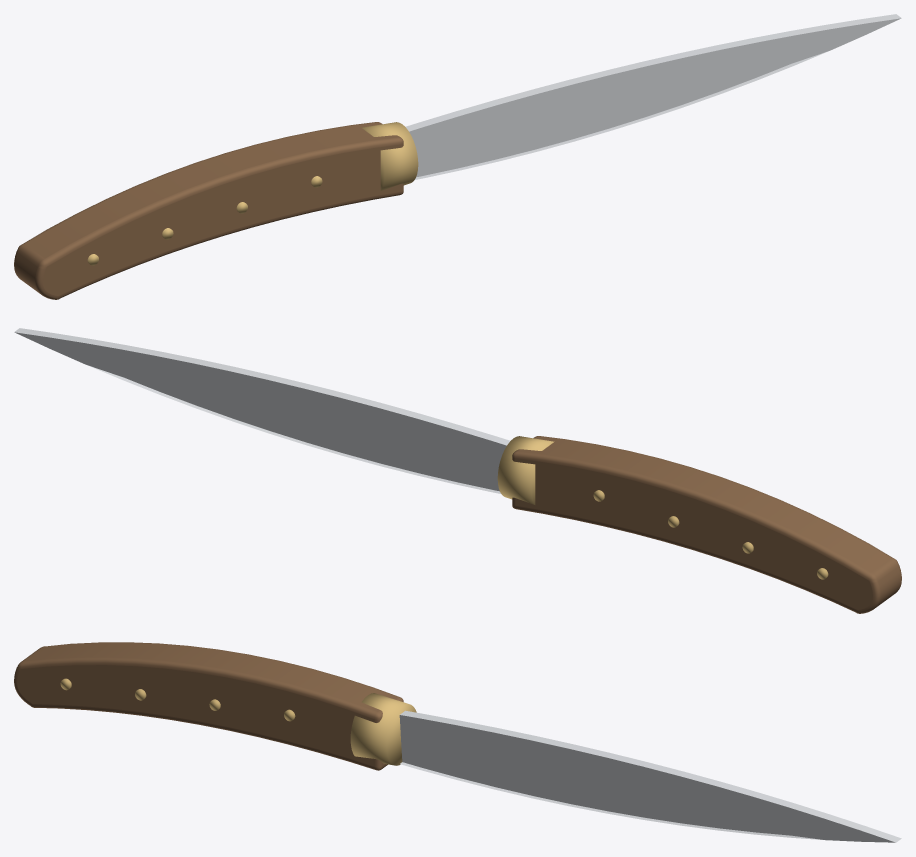
Rendered from knife_navaja.glb.
The picture shows the model from 3 angles, top to bottom: view 1: azimuth 30°, elevation 25°; view 2: azimuth 150°, elevation 25°; view 3: azimuth 330°, elevation 25°; orthographic projection.
Parts seen in each view (by area): view 1: handle, blade, bolster; view 2: handle, blade, bolster; view 3: handle, blade, bolster.
Part boxes in pixels (<box>): handle: <box>14,122,403,299</box>; blade: <box>405,14,901,179</box>; bolster: <box>361,122,418,190</box>; handle: <box>512,436,901,613</box>; blade: <box>14,328,510,493</box>; bolster: <box>497,436,554,504</box>; handle: <box>14,642,403,770</box>; blade: <box>399,710,901,842</box>; bolster: <box>350,693,416,765</box>.
Size of the model in its own units: 0.352 by 0.0326 by 0.024.
